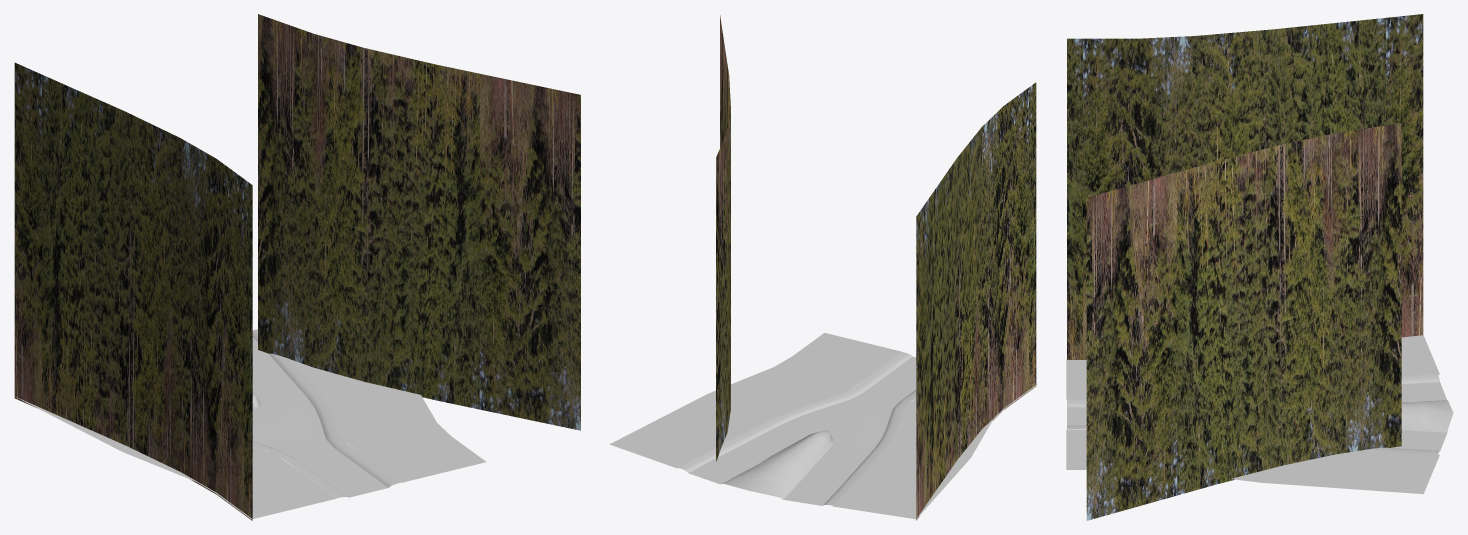
The model's file is haarauma_seinät.FBX.
3 views of the same model, side by side, from view 1: azimuth 30°, elevation 25°; view 2: azimuth 150°, elevation 25°; view 3: azimuth 270°, elevation 25° (orthographic). The views are drawn at different scales.
Visible parts, largest first — view 1: Plane007, Plane006, Plane015, haarauma001; view 2: Plane006, Plane015, haarauma001, Plane007; view 3: Plane007, Plane006, Plane015, haarauma001.
Boxes of the visible parts, x1=… form: Plane007: x1=258, y1=14, x2=580, y2=430; Plane006: x1=14, y1=62, x2=252, y2=520; Plane015: x1=14, y1=359, x2=486, y2=519; haarauma001: x1=252, y1=329, x2=400, y2=498; Plane006: x1=916, y1=82, x2=1036, y2=520; Plane015: x1=609, y1=333, x2=1037, y2=519; haarauma001: x1=679, y1=352, x2=916, y2=505; Plane007: x1=716, y1=15, x2=730, y2=461; Plane007: x1=1086, y1=123, x2=1401, y2=520; Plane006: x1=1067, y1=14, x2=1423, y2=359; Plane015: x1=1066, y1=335, x2=1439, y2=494; haarauma001: x1=1067, y1=374, x2=1453, y2=454.
Bounding box in the file's own units: 876 × 718 × 779.
